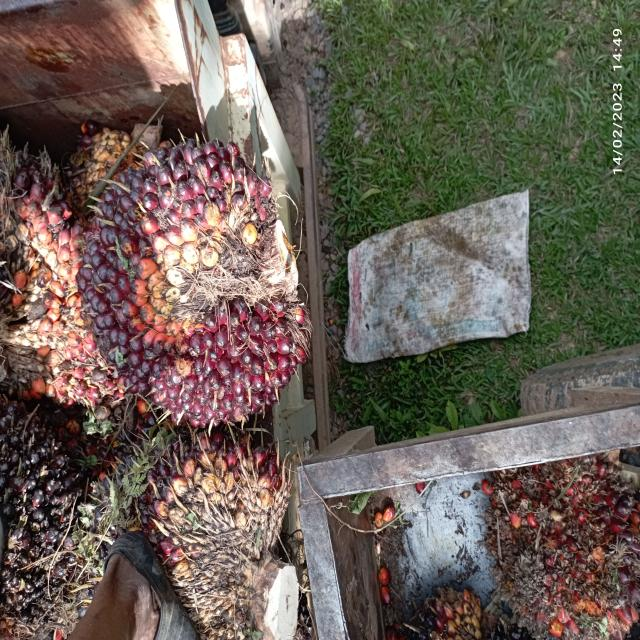fraksi 00: (119, 395, 295, 640), (0, 381, 158, 640)
fraksi 1: (59, 99, 332, 462)
fraksi 3: (489, 433, 640, 640)
